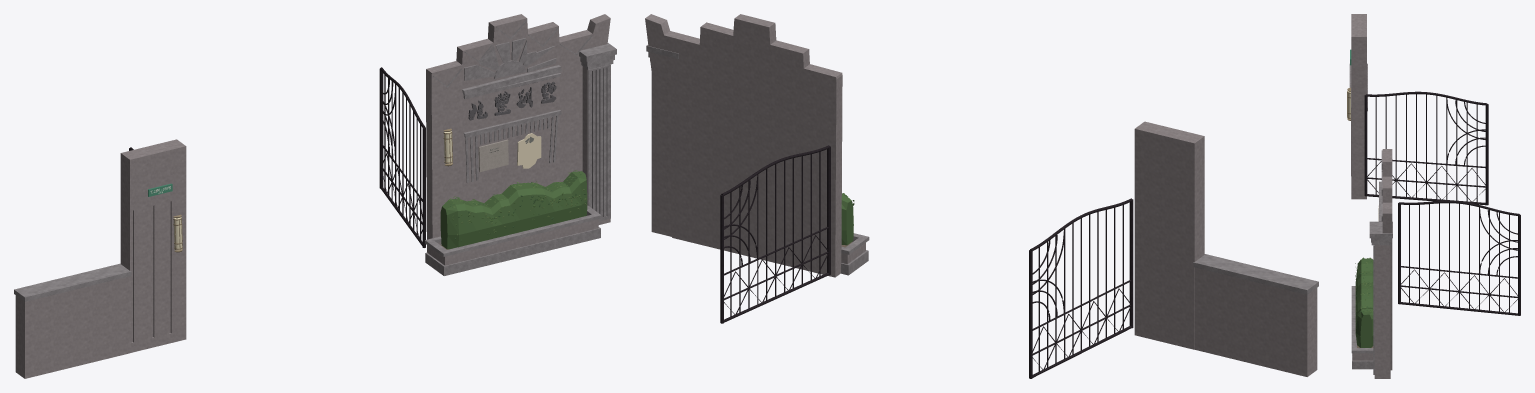
Rendered from changning-zhaofeng-villas-sunburst-entry-web.glb.
3 views of the same model, side by side, from view 1: azimuth 30°, elevation 25°; view 2: azimuth 150°, elevation 25°; view 3: azimuth 270°, elevation 25° (orthographic). The views are drawn at different scales.
Parts seen in each view (by area): view 1: 兆丰别墅长宁路弄口题名墙; view 2: 兆丰别墅长宁路弄口题名墙; view 3: 兆丰别墅长宁路弄口题名墙.
Part boxes in pixels (<box>): 兆丰别墅长宁路弄口题名墙: <box>14,14,616,378</box>; 兆丰别墅长宁路弄口题名墙: <box>645,14,1318,378</box>; 兆丰别墅长宁路弄口题名墙: <box>1347,14,1520,378</box>.
Size of the model in its own units: 11.21 by 3.89 by 3.32.
16 materials, 4 textured.
